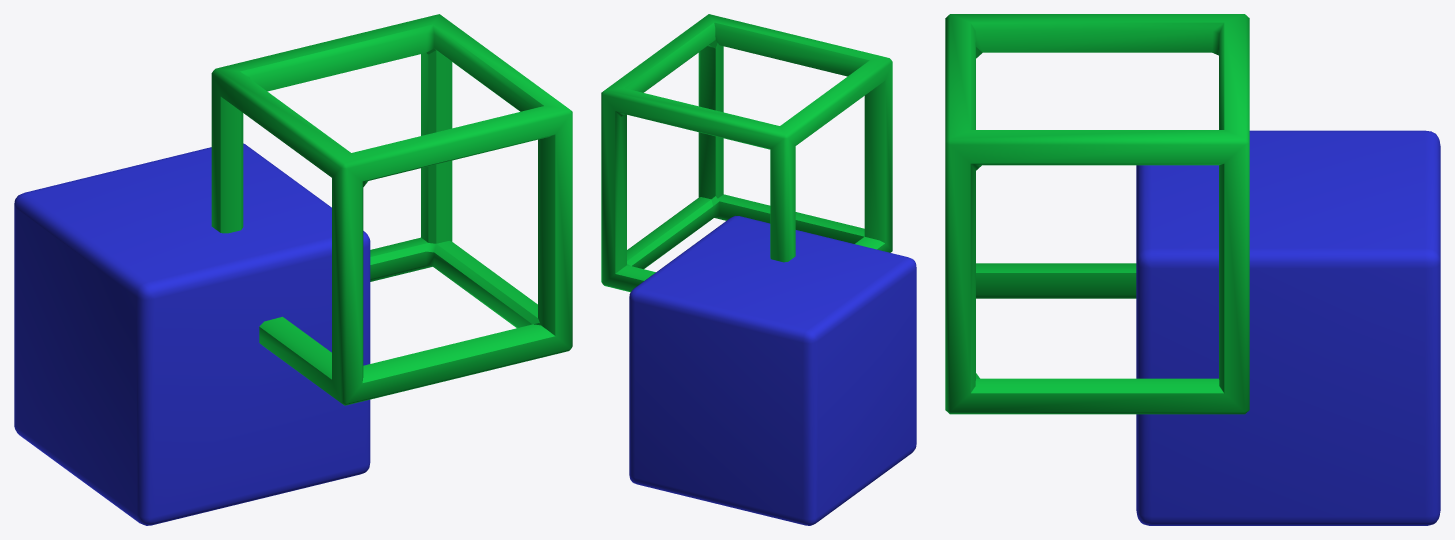
File: Phase.FBX
3 renders of one model, left to right at view 1: azimuth 30°, elevation 25°; view 2: azimuth 150°, elevation 25°; view 3: azimuth 270°, elevation 25°, orthographic. The views are drawn at different scales.
Visible parts, largest first — view 1: Box001; view 2: Box001; view 3: Box001.
Part boxes in pixels (left/top/right/bottom): Box001: left=14, top=14, right=572, bottom=525; Box001: left=601, top=14, right=916, bottom=525; Box001: left=945, top=14, right=1440, bottom=525.
Bounding box in the file's own units: 0.7432 × 0.8058 × 0.8157.
